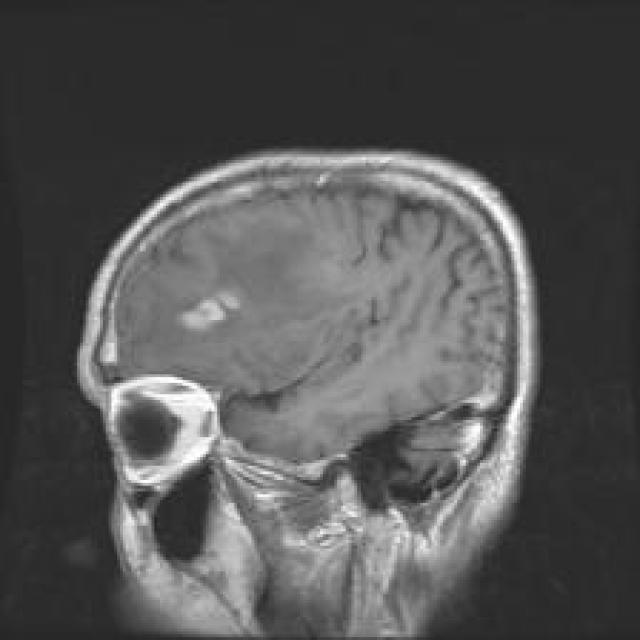glioma_tumor: (155, 251, 277, 359)
